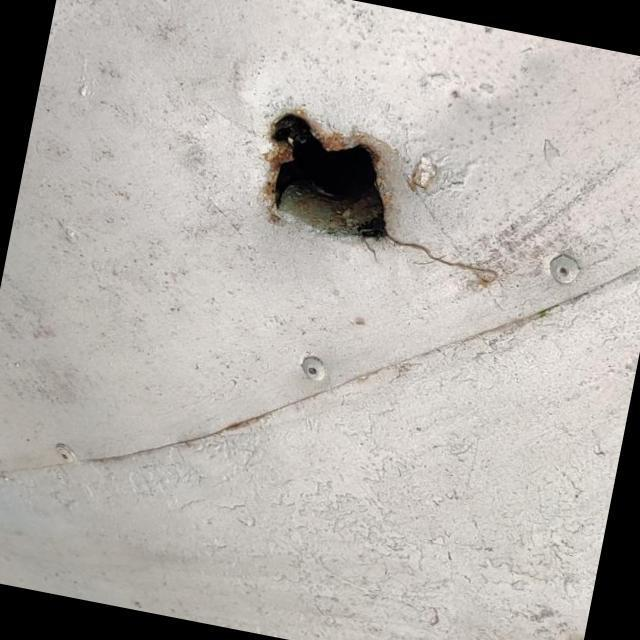Rupture: (225, 88, 540, 309)
